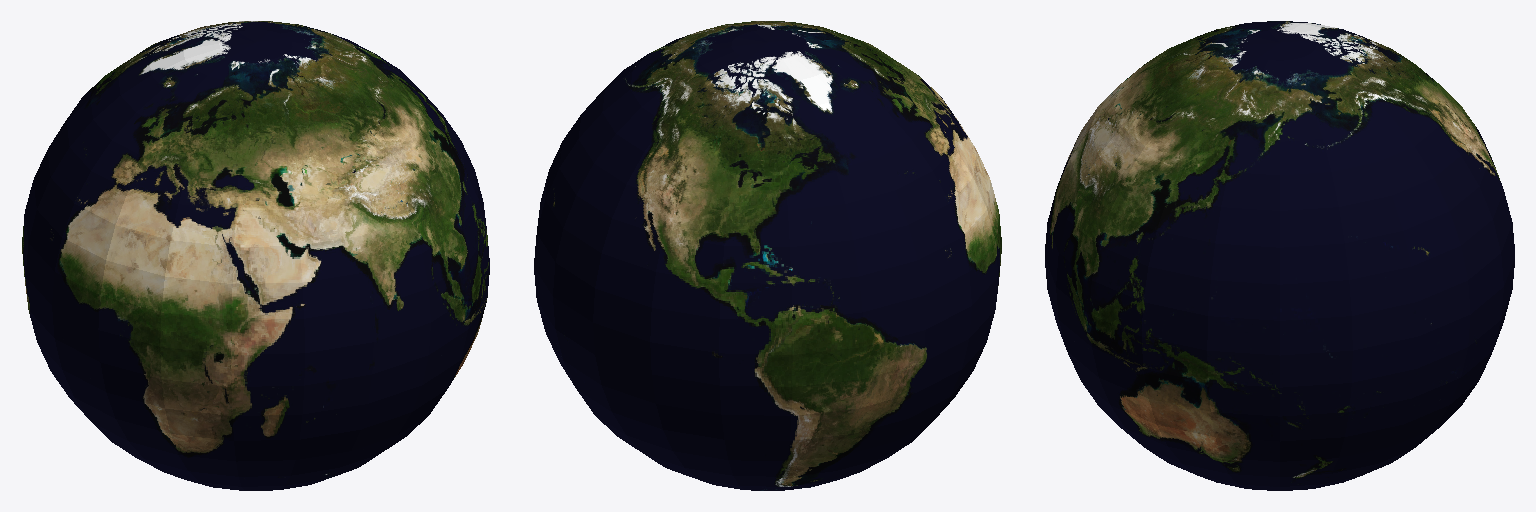
3 views of the same model, side by side, from view 1: azimuth 30°, elevation 25°; view 2: azimuth 150°, elevation 25°; view 3: azimuth 270°, elevation 25° (orthographic).
Parts seen in each view (by area): view 1: earth2:pSphere1 group; view 2: earth2:pSphere1 group; view 3: earth2:pSphere1 group.
Part boxes in pixels (x1,y1,x2,y2): earth2:pSphere1 group: (22,21,489,490); earth2:pSphere1 group: (534,21,1001,490); earth2:pSphere1 group: (1045,21,1514,490).
Bounding box in the file's own units: 4.59 × 4.59 × 4.59.
1 materials, 1 textured.